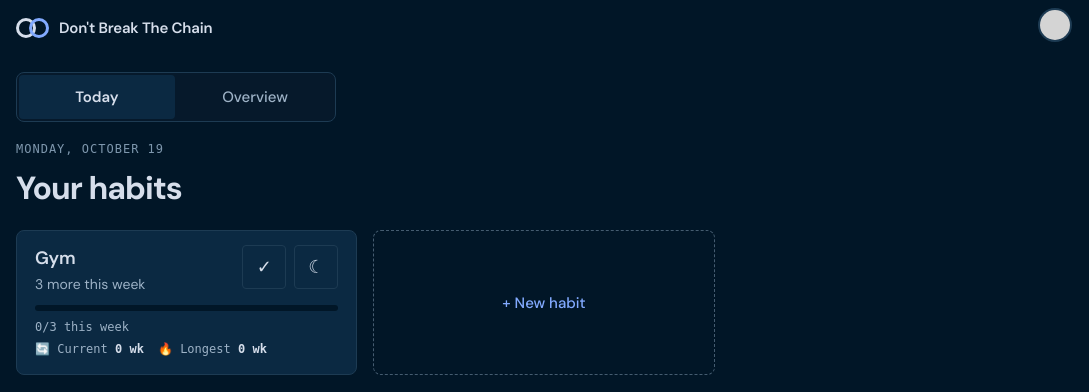
it: HabitsList - User workflows › should let a weekly habit take today off, shrinking its card until ☾ is tapped again
Click the radio button named "Day off": (316, 267) [294, 245, 338, 289]
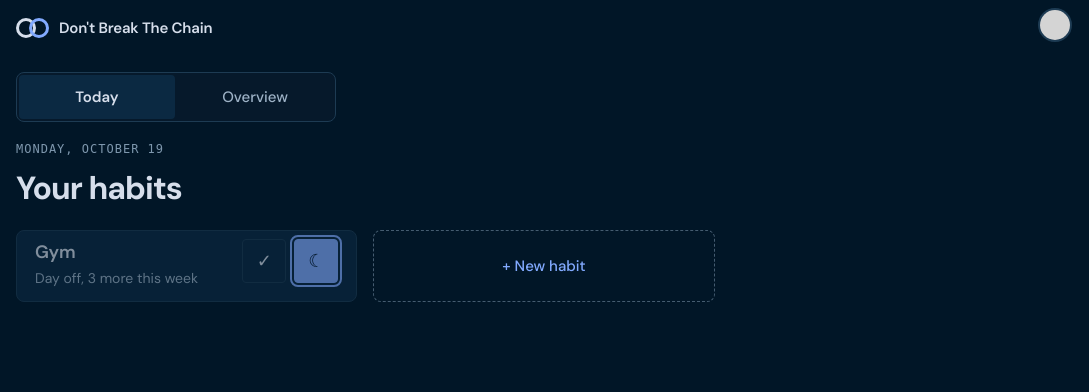
Now the text "Day off, 3 more this week" is shown, box [35, 268, 198, 289]
Now the text "0/3 this week" is gone
Click the radio button named "Day off": (316, 261) [294, 239, 338, 283]
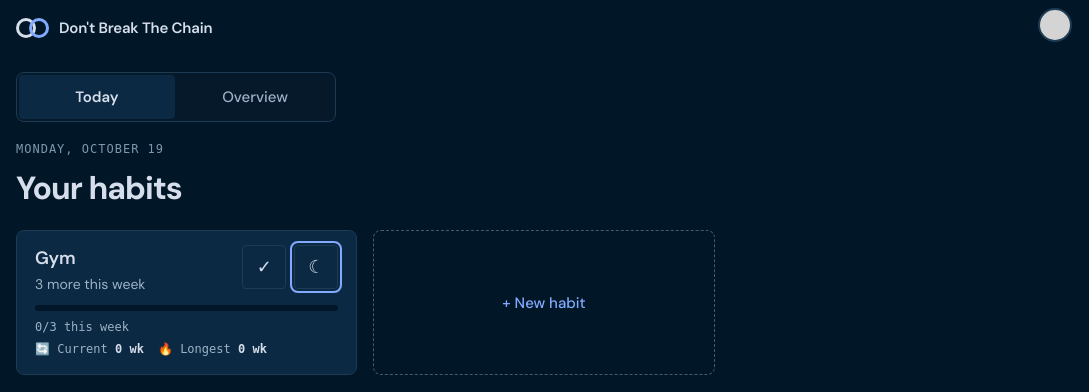
Now the text "0/3 this week" is shown, box [35, 318, 129, 336]
